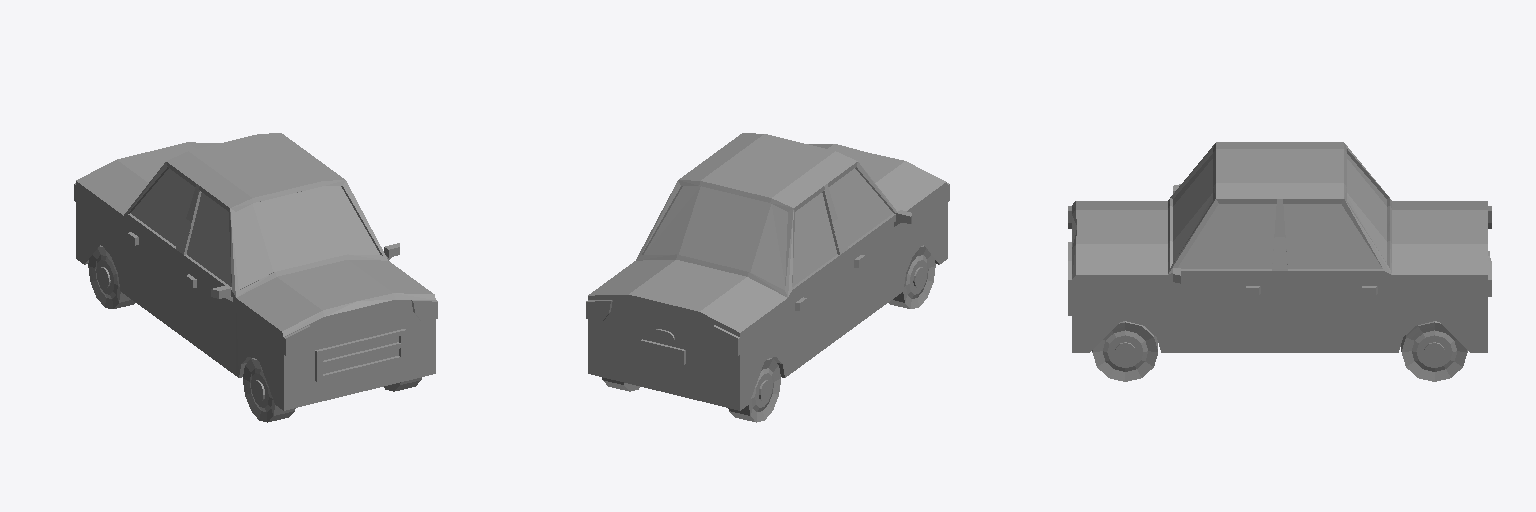
The model's file is testecarro.obj.
The picture shows the model from 3 angles: view 1: azimuth 30°, elevation 25°; view 2: azimuth 150°, elevation 25°; view 3: azimuth 270°, elevation 25°; orthographic projection.
Parts seen in each view (by area): view 1: Cube; view 2: Cube; view 3: Cube.
Part boxes in pixels (x1,y1,x2,y2): Cube: (74,133,437,422); Cube: (586,133,949,422); Cube: (1068,142,1491,381).
Bounding box in the file's own units: 3.39 × 3.09 × 6.6.